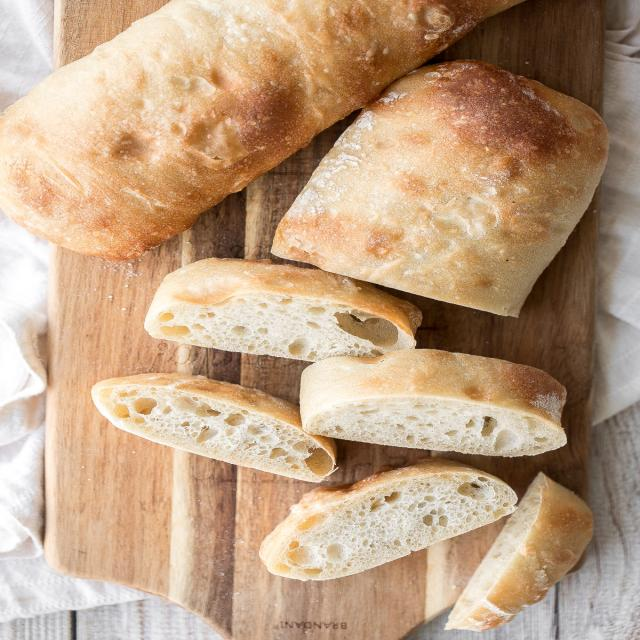Ciabatta: (2, 0, 519, 260), (272, 60, 609, 316)
